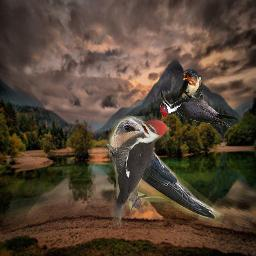Swallow: (109, 112, 226, 224), (178, 69, 202, 98)
Woodpecker: (101, 116, 169, 228), (160, 89, 238, 127)
